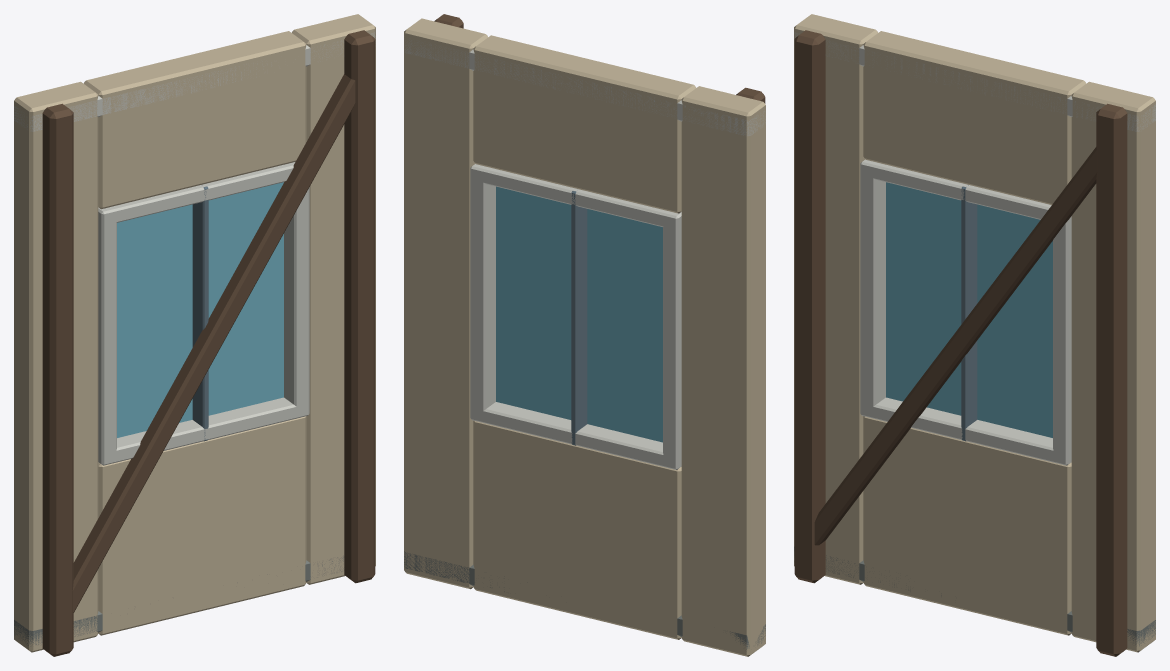
Rendered from architecture-village-window-wall.lod0.glb.
3 renders of one model, left to right at view 1: azimuth 30°, elevation 25°; view 2: azimuth 150°, elevation 25°; view 3: azimuth 330°, elevation 25°, orthographic.
Parts seen in each view (by area): view 1: architecture-village-window-wall__body; view 2: architecture-village-window-wall__body; view 3: architecture-village-window-wall__body.
Part boxes in pixels (x1,y1,x2,y2): architecture-village-window-wall__body: (14,14,375,656); architecture-village-window-wall__body: (404,14,765,656); architecture-village-window-wall__body: (794,14,1155,656).
Size of the model in its own units: 2 by 3 by 0.315.
